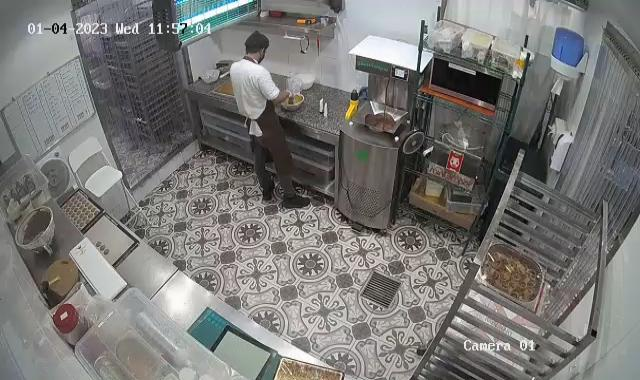no_hairnet: (242, 32, 268, 59)
